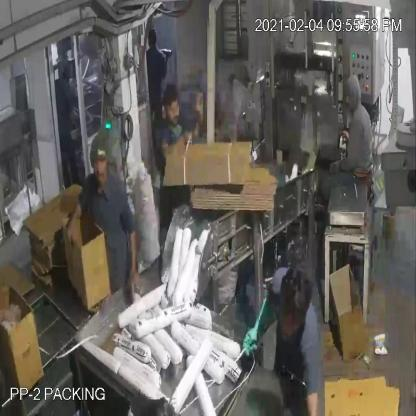glove: (238, 293, 281, 358)
no_glove: (61, 190, 84, 255), (125, 220, 144, 298), (0, 295, 30, 341)
